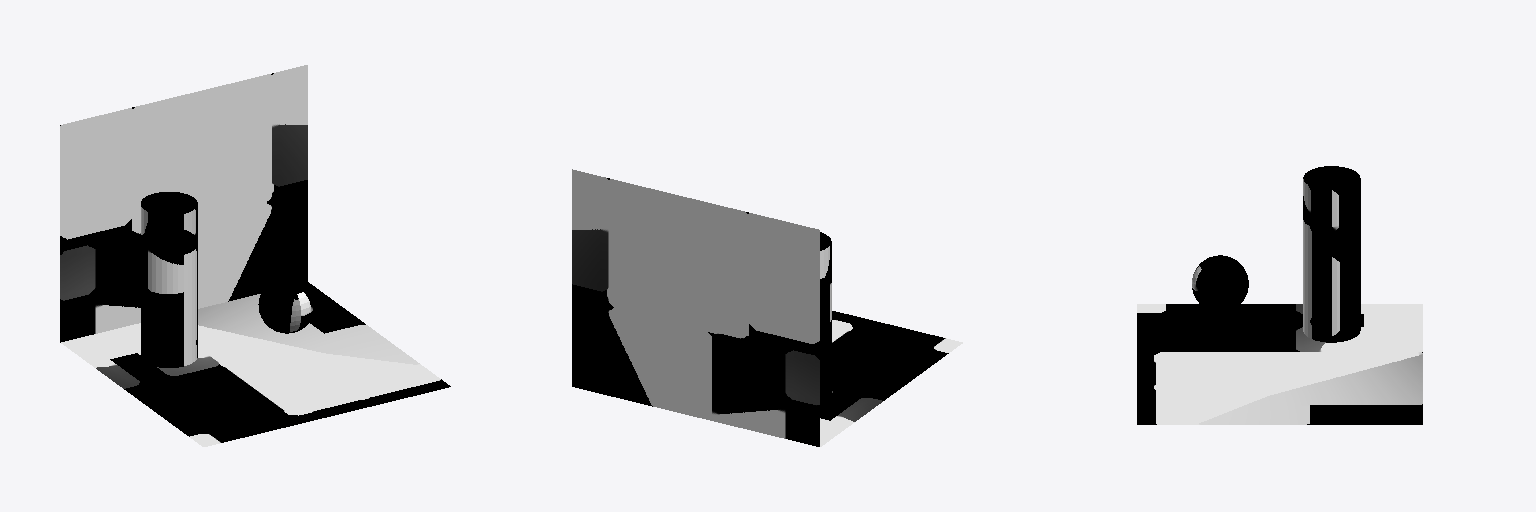
3 views of the same model, side by side, from view 1: azimuth 30°, elevation 25°; view 2: azimuth 150°, elevation 25°; view 3: azimuth 270°, elevation 25° (orthographic).
Visible parts, largest first — view 1: Sphere; view 2: Sphere; view 3: Sphere.
Boxes of the visible parts, x1=… form: Sphere: x1=60, y1=65, x2=450, y2=446; Sphere: x1=572, y1=169, x2=962, y2=446; Sphere: x1=1137, y1=166, x2=1422, y2=424.
Size of the model in its own units: 10 by 8.38 by 10.
Materials: 1 (1 with a texture image).